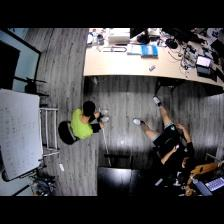normal: (132, 95, 198, 173), (69, 101, 111, 138)
